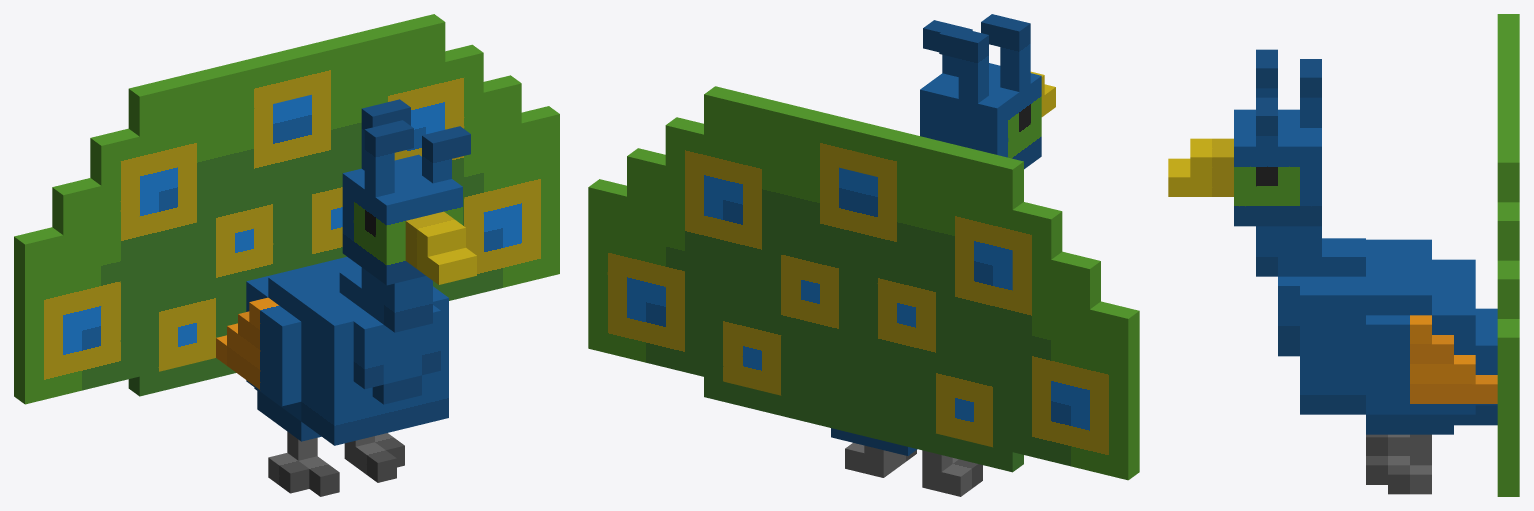
Rendered from animals-6-toucan-9381cb86.glb.
The picture shows the model from 3 angles, left to right: view 1: azimuth 30°, elevation 25°; view 2: azimuth 150°, elevation 25°; view 3: azimuth 270°, elevation 25°; orthographic projection.
Parts seen in each view (by area): view 1: animals-6-toucan.001; view 2: animals-6-toucan.001; view 3: animals-6-toucan.001.
Boxes of the visible parts, <box> form: animals-6-toucan.001: <box>14,14,559,496</box>; animals-6-toucan.001: <box>588,14,1139,496</box>; animals-6-toucan.001: <box>1168,14,1519,496</box>.
Size of the model in its own units: 2.8 by 2 by 1.6.
Materials: 1 (1 with a texture image).
